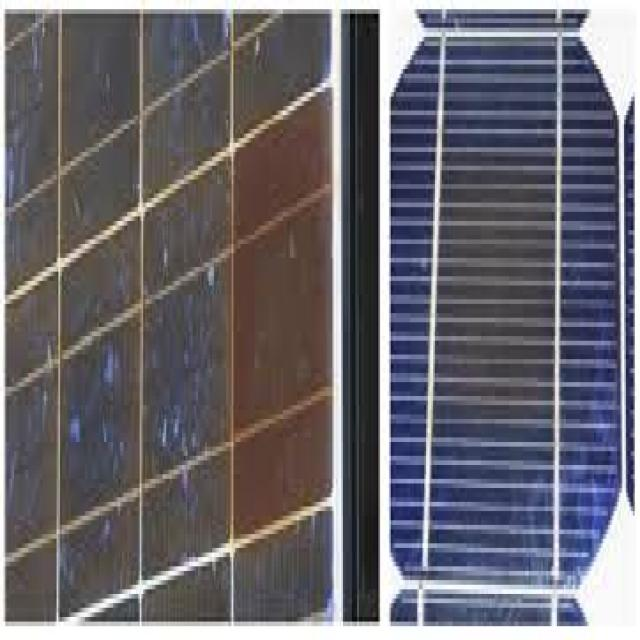faulty: (2, 0, 339, 640), (403, 2, 640, 610)
